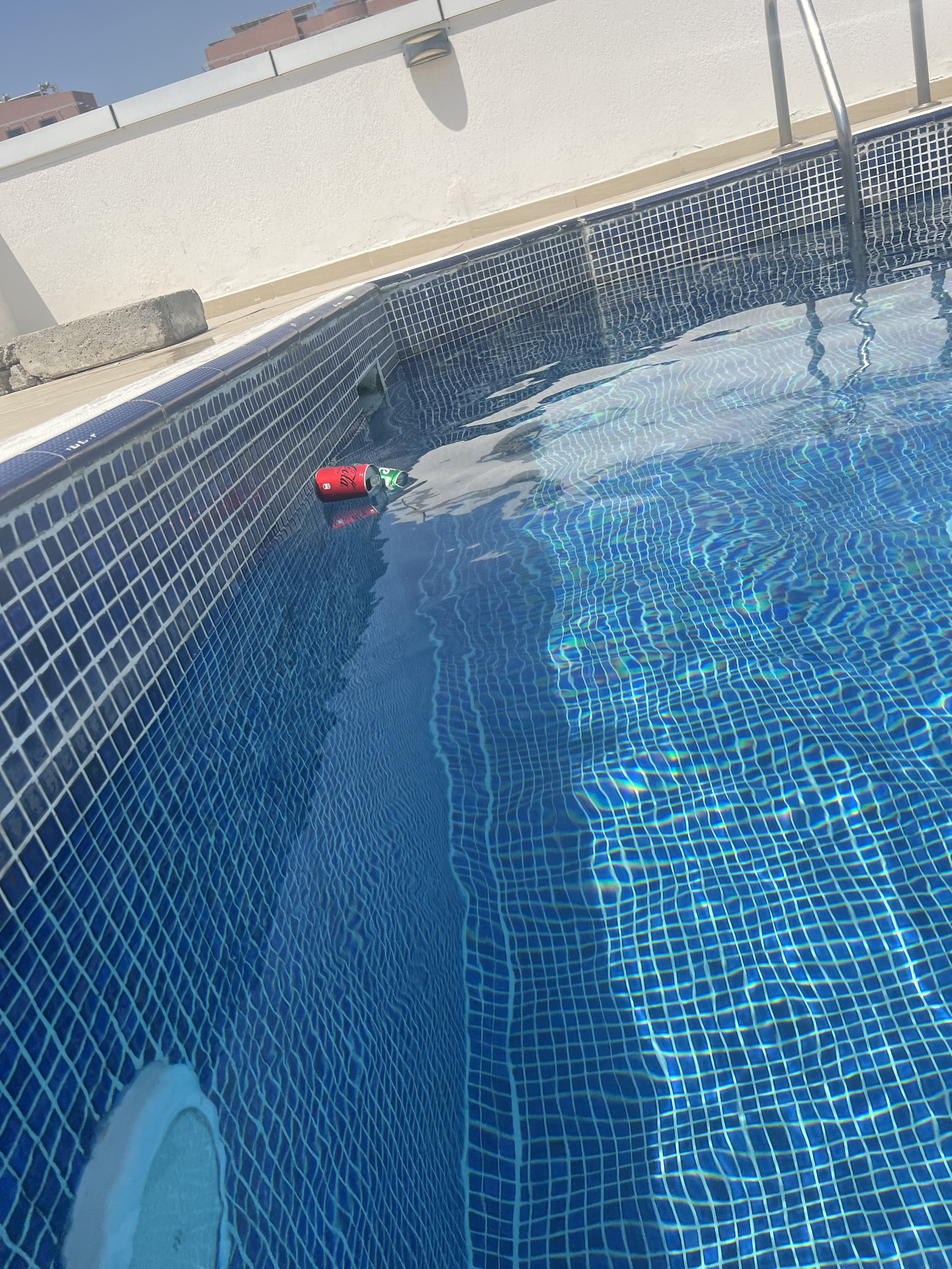debris: (311, 448, 379, 517), (360, 458, 410, 505)
